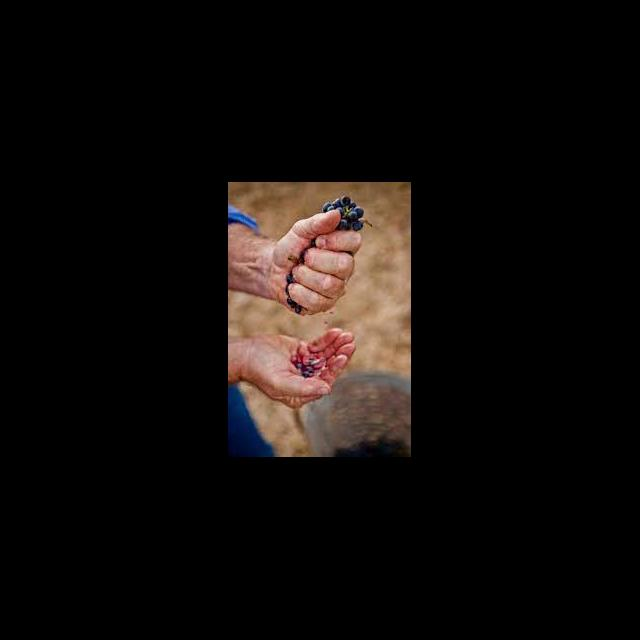grape: (322, 196, 372, 232), (290, 342, 326, 378)
